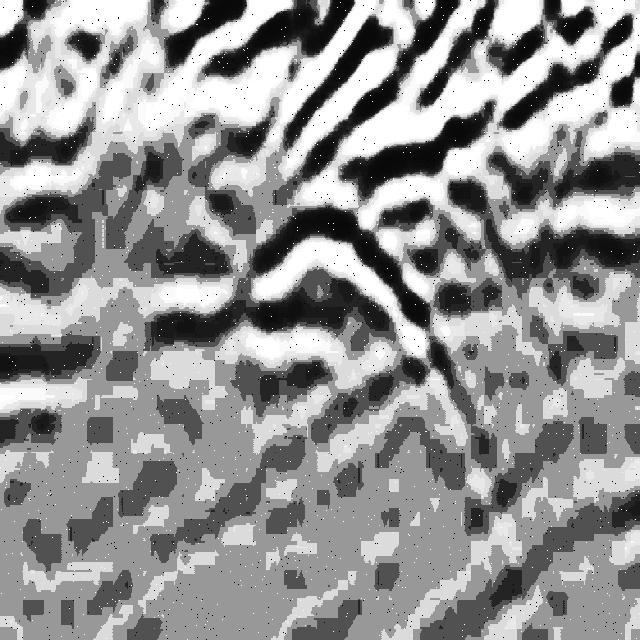hyperbola: (144, 172, 501, 495)
